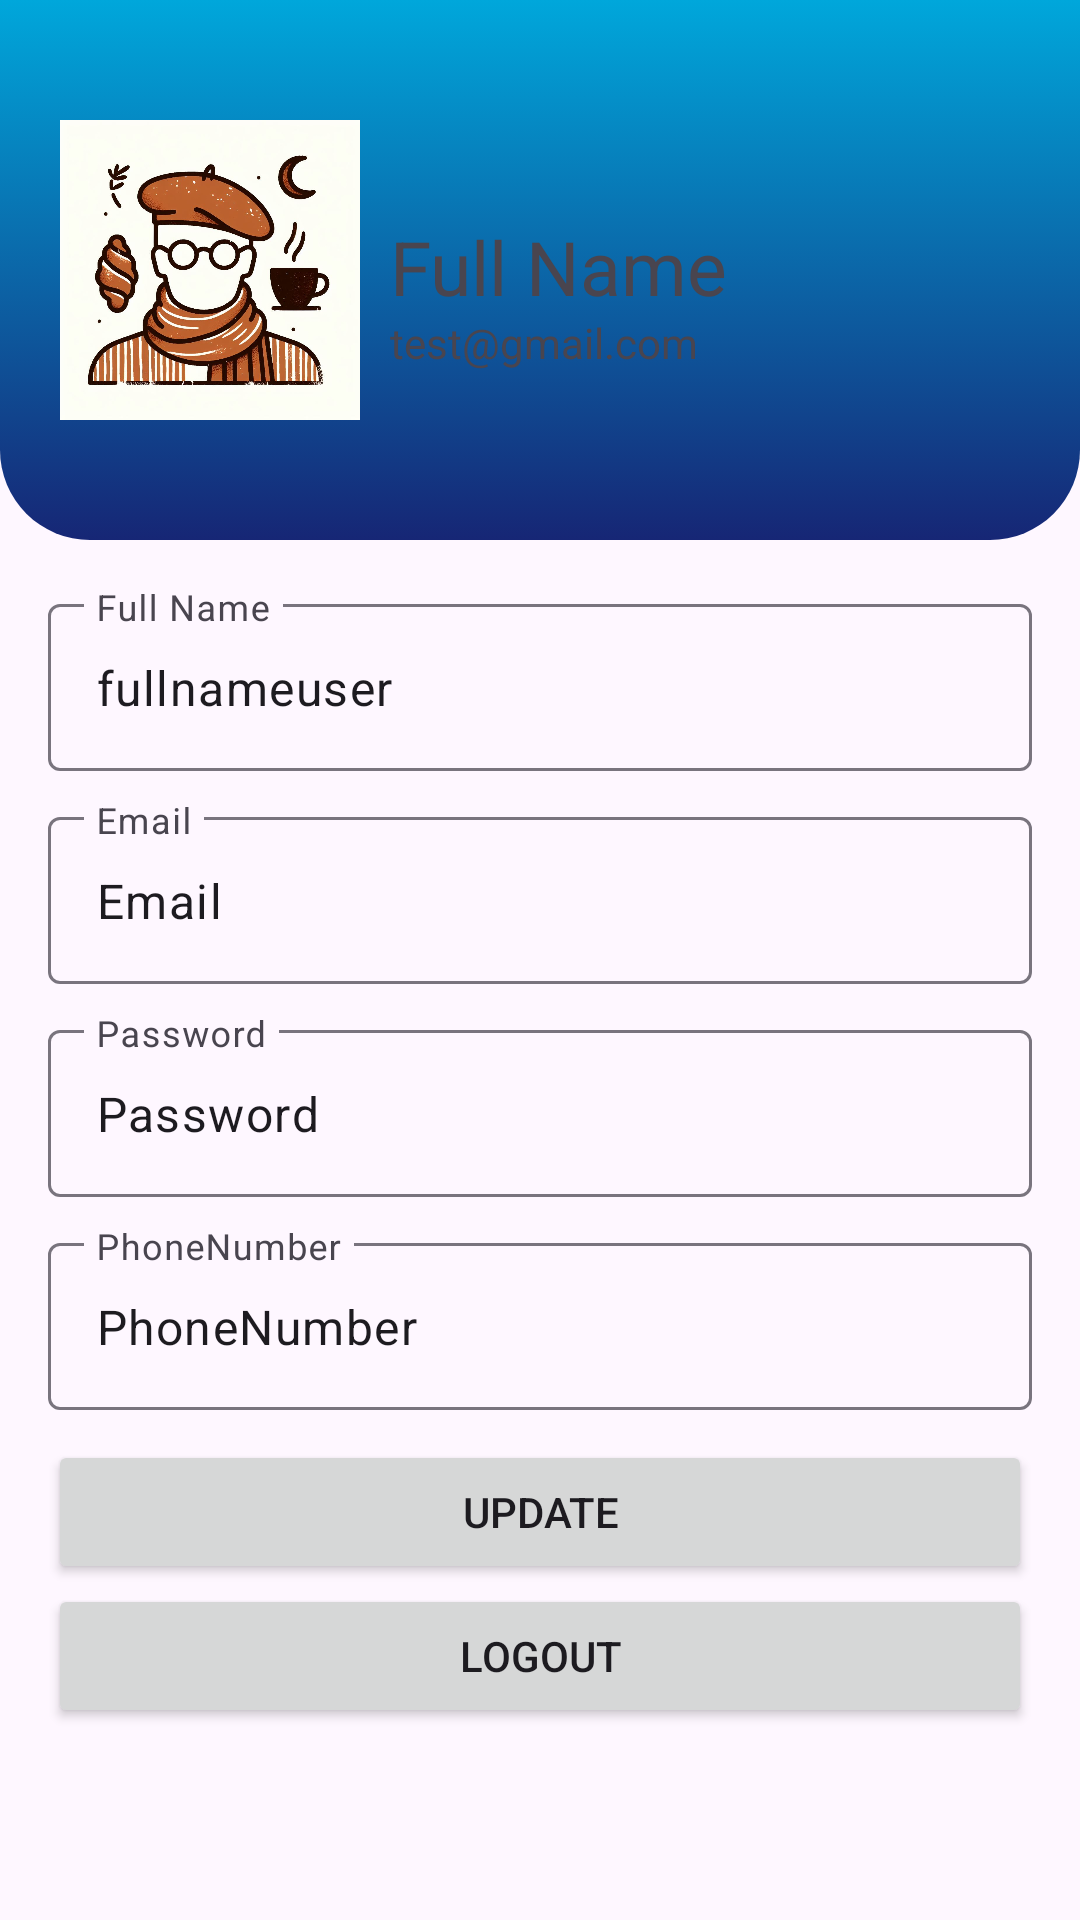

Named icons in this screenshot (1080x1920) and their centers, [x,y]:
cafe user: [210,270]
